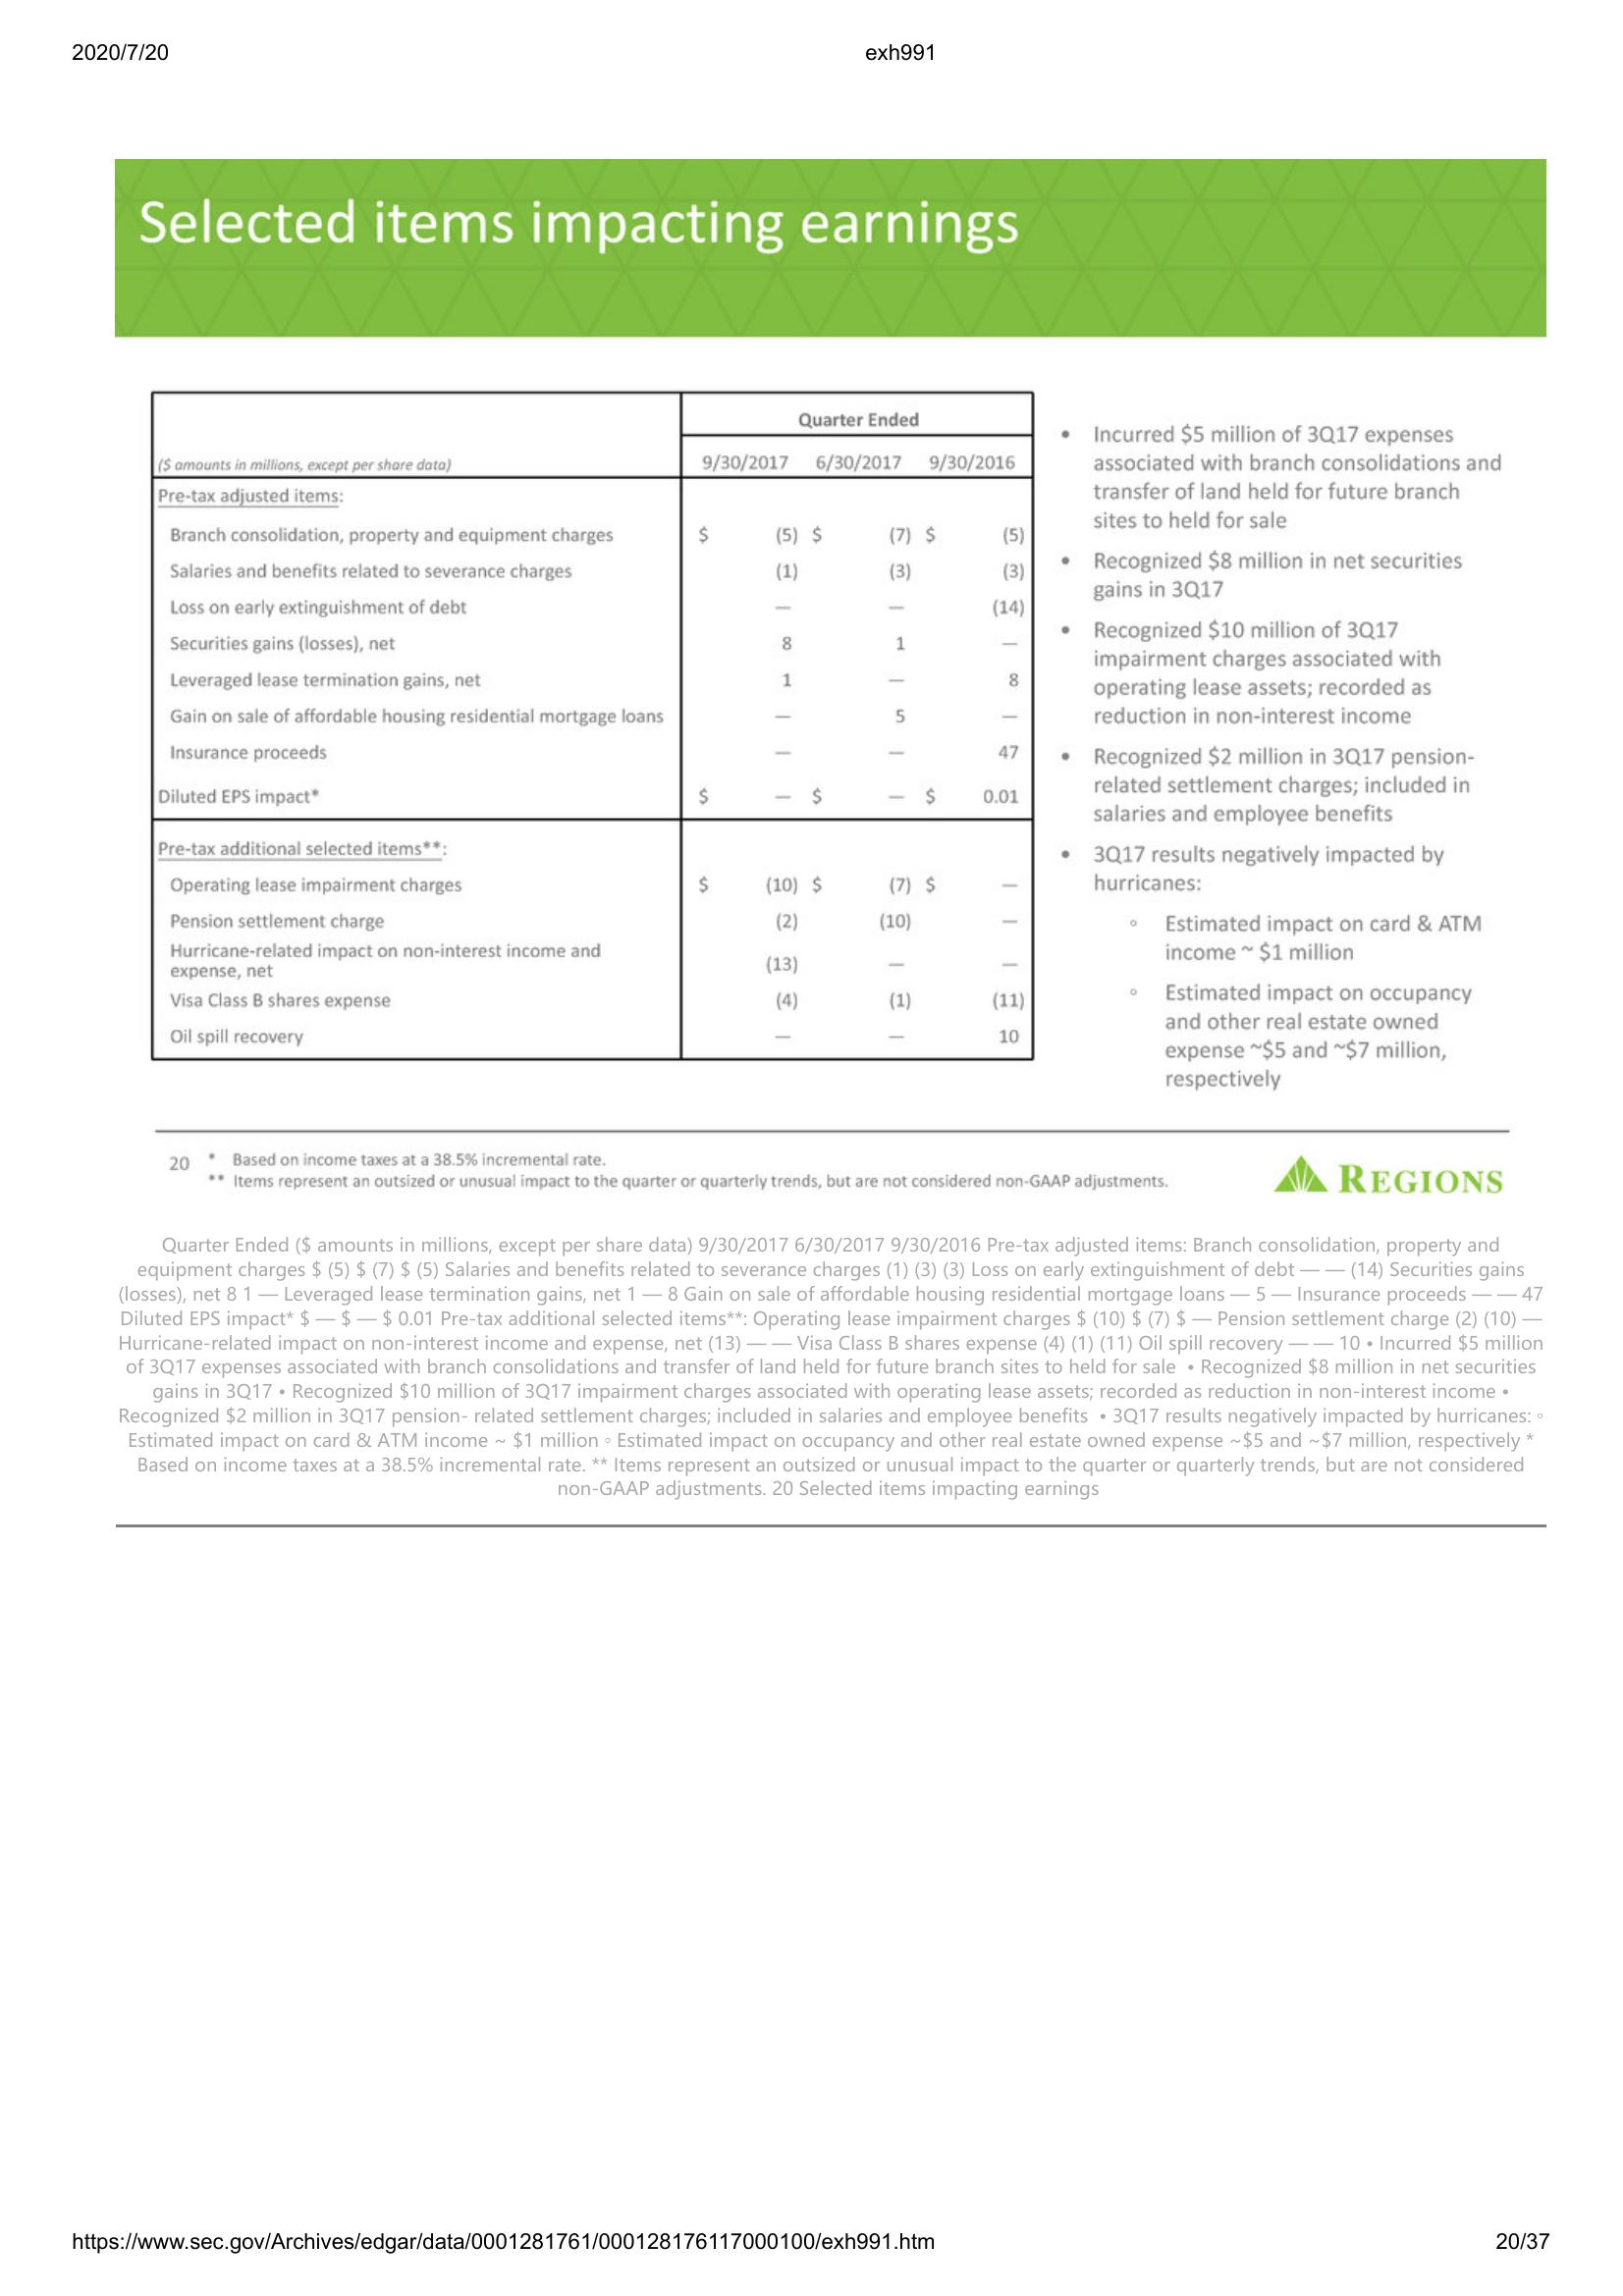table: (144, 384, 1042, 1065)
